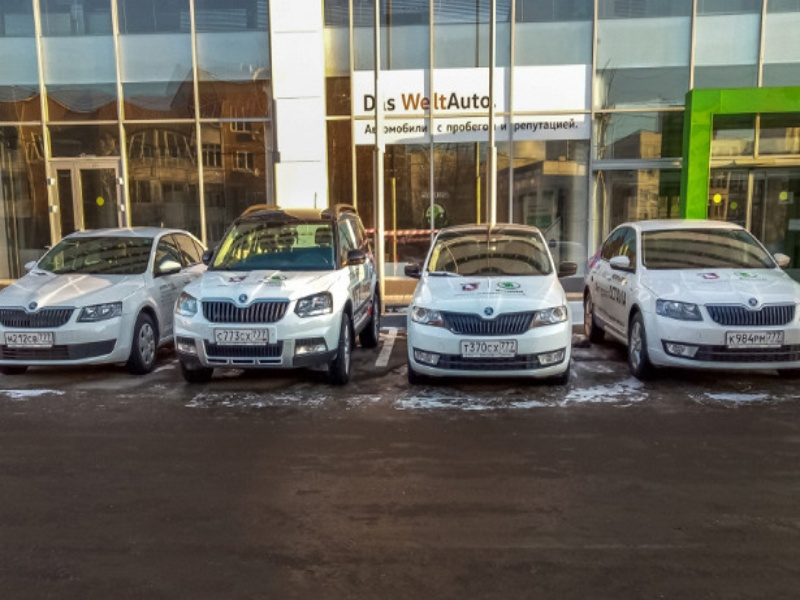car: (174, 204, 381, 381), (583, 220, 800, 374), (1, 227, 209, 374), (405, 223, 572, 382)
plate: (727, 330, 784, 345), (214, 327, 268, 342), (461, 341, 515, 356), (4, 332, 52, 345)
